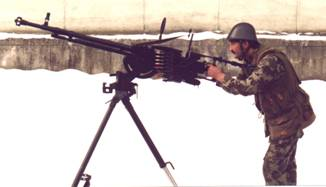rifle: (13, 15, 192, 77)
rifle in hand: (12, 15, 231, 97)
